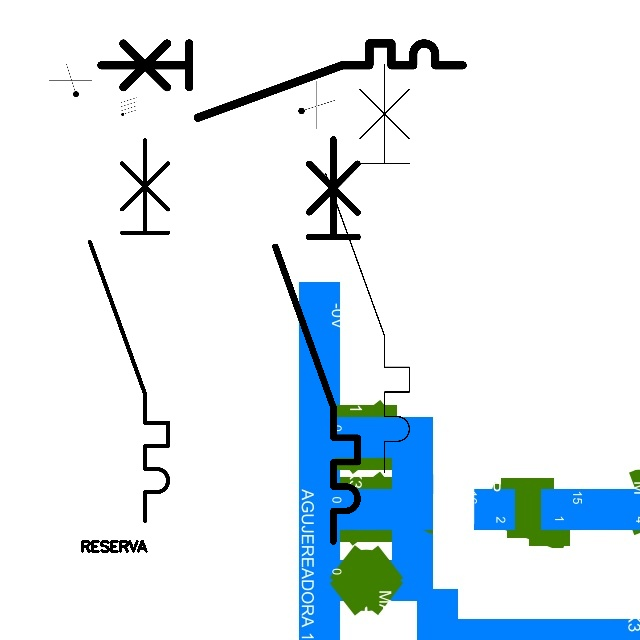interruptor_termomagnetico: (315, 54, 420, 483), (265, 128, 368, 551), (80, 130, 178, 530), (92, 34, 472, 127)
